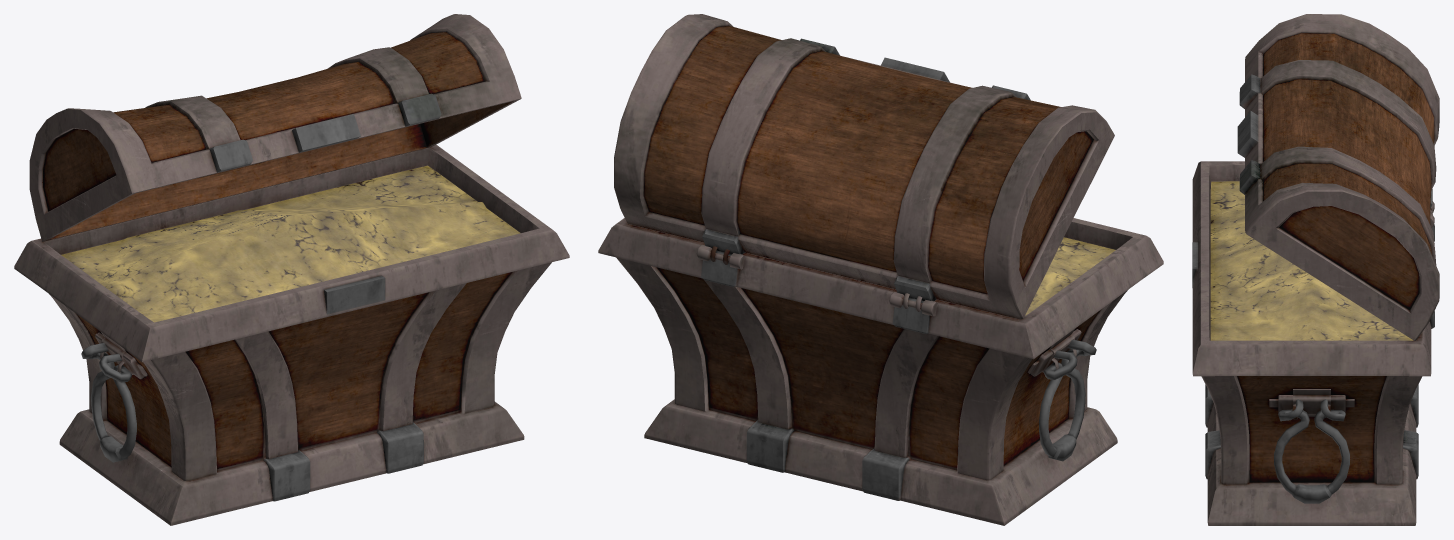
Rendered from Chest.fbx.
3 views of the same model, side by side, from view 1: azimuth 30°, elevation 25°; view 2: azimuth 150°, elevation 25°; view 3: azimuth 270°, elevation 25° (orthographic). The views are drawn at different scales.
Visible parts, largest first — view 1: Chest_Gold1; view 2: Chest_Gold1; view 3: Chest_Gold1.
Boxes of the visible parts, x1,y1,x2,y2 form: Chest_Gold1: [14, 14, 569, 525]; Chest_Gold1: [598, 14, 1163, 525]; Chest_Gold1: [1192, 14, 1439, 525].
Size of the model in its own units: 200 by 165 by 108.
